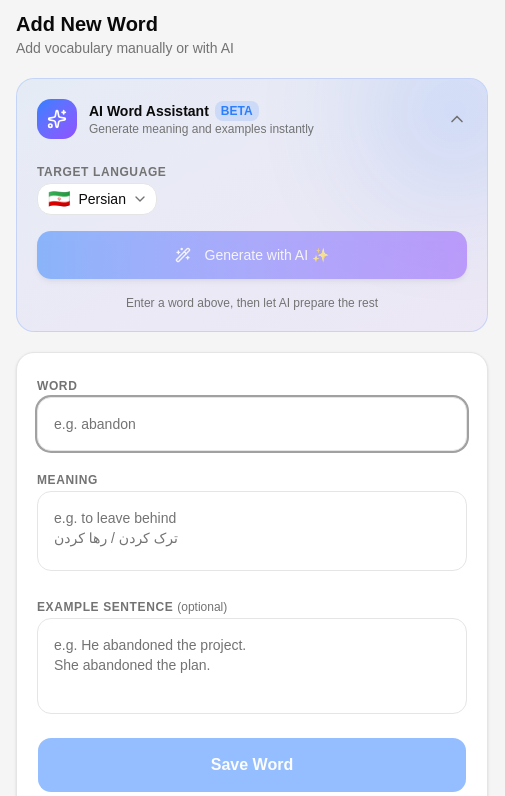
Test: AddWordPage › save word › shows Saving… while the request is pending
Type "abandon" into the field with placeholder "e.g. abandon" at (252, 424), box [37, 397, 467, 451]
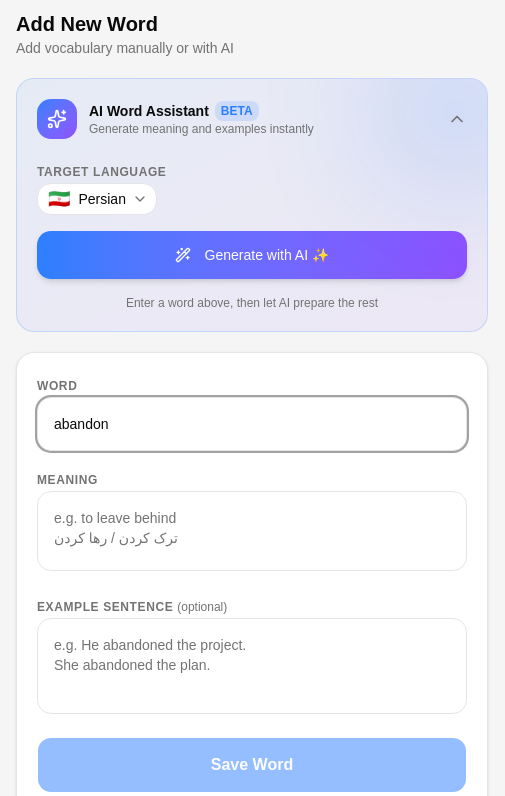
Type "to leave behind" into the text box with placeholder "e.g. to leave behind ترک کردن / رها کردن" at (252, 531), box [37, 491, 467, 571]
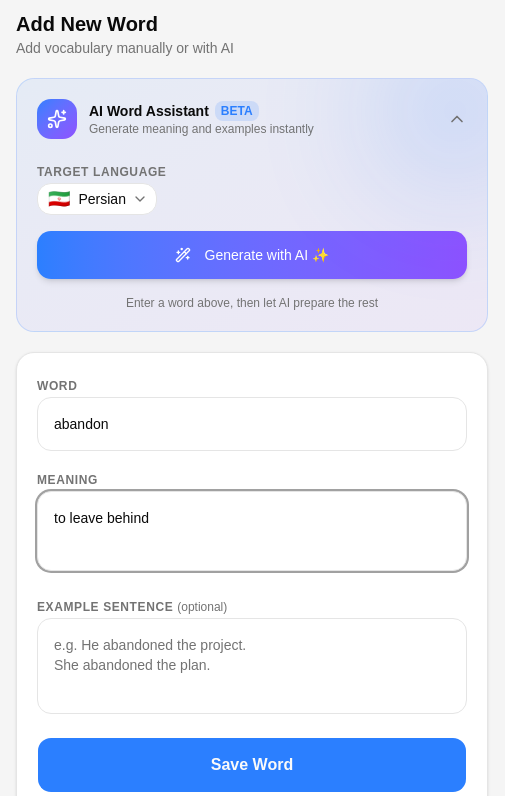
Click the button "Save Word" at (252, 765), box [37, 737, 467, 793]
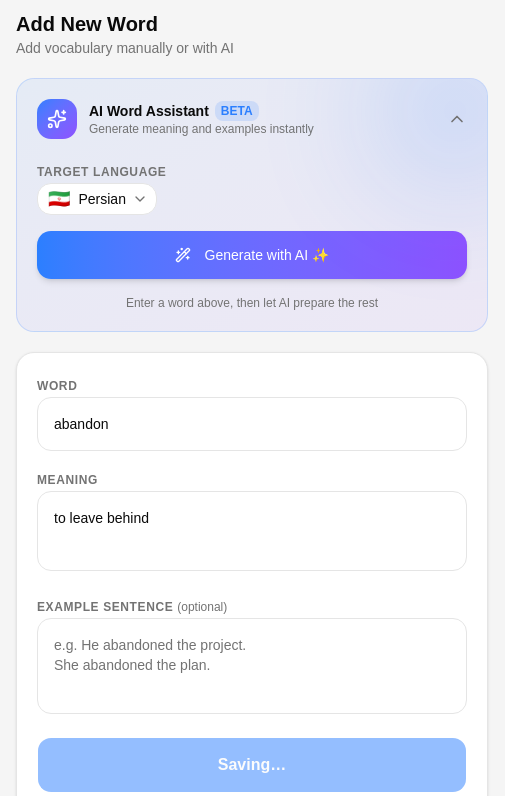
Check: the button "Saving…" is disabled, box [37, 737, 467, 793]
